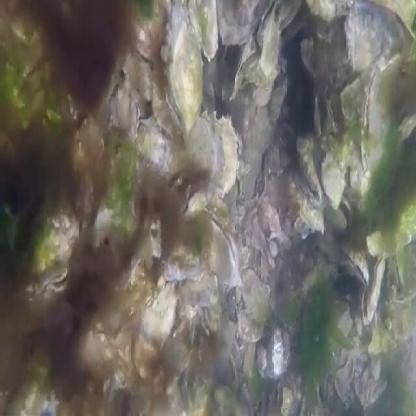3: (25, 204, 79, 302), (361, 54, 404, 169), (209, 216, 240, 285), (109, 88, 141, 144), (334, 244, 368, 288), (165, 244, 204, 282), (363, 258, 385, 325), (325, 197, 353, 232), (314, 95, 335, 140), (182, 191, 208, 224), (258, 0, 276, 47), (278, 0, 301, 33), (393, 253, 404, 290)
Oyster-Closed: (185, 113, 238, 194), (166, 23, 203, 138), (343, 9, 383, 68), (215, 0, 258, 47), (135, 117, 167, 171), (297, 132, 323, 198), (188, 0, 218, 57), (261, 329, 290, 377), (303, 38, 325, 73)
Oyster-Open: (366, 205, 416, 258), (242, 270, 269, 322), (322, 155, 344, 204), (343, 79, 363, 124), (304, 0, 356, 17)
